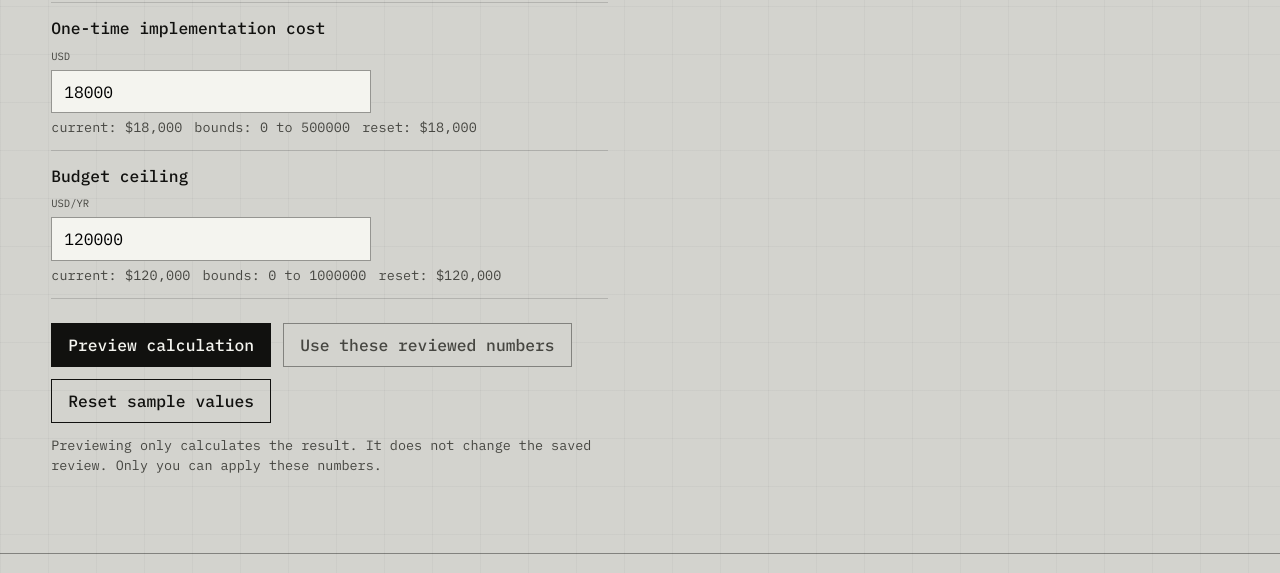
Scenario: ROI workspace › previews without changing room revision
(page scrolled)
Click the button "Preview calculation": [161, 345] box [51,323,271,367]
(page scrolled)
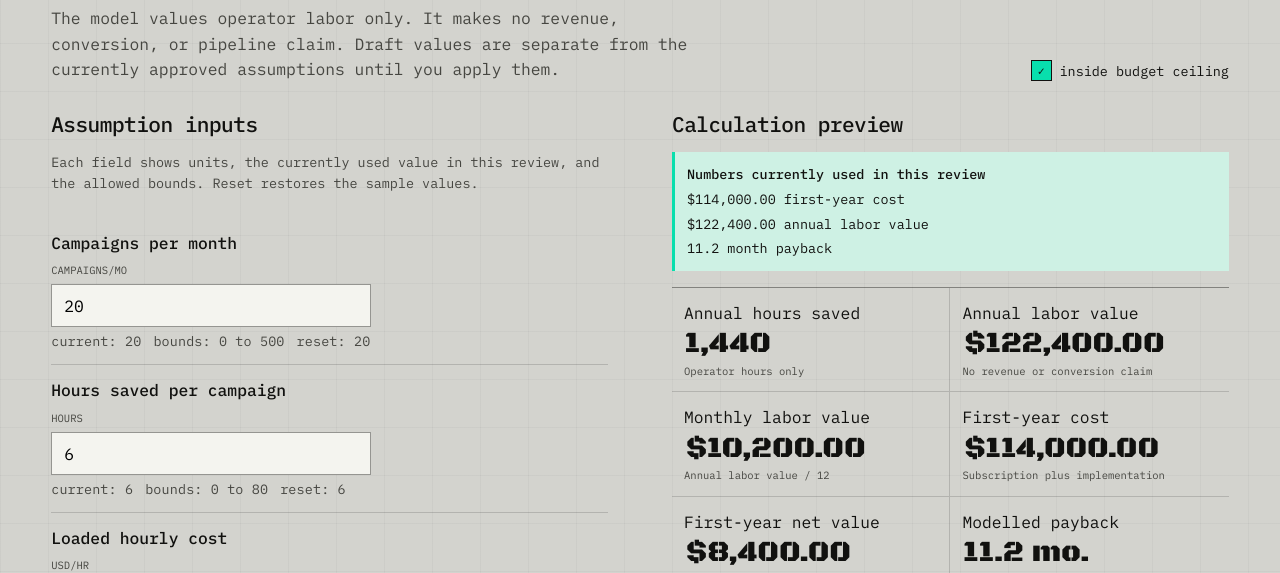
Now the text "Annual hours saved" is shown, box [684,302,860,323]
Now the text "1,440" is shown, box [684,326,771,362]
